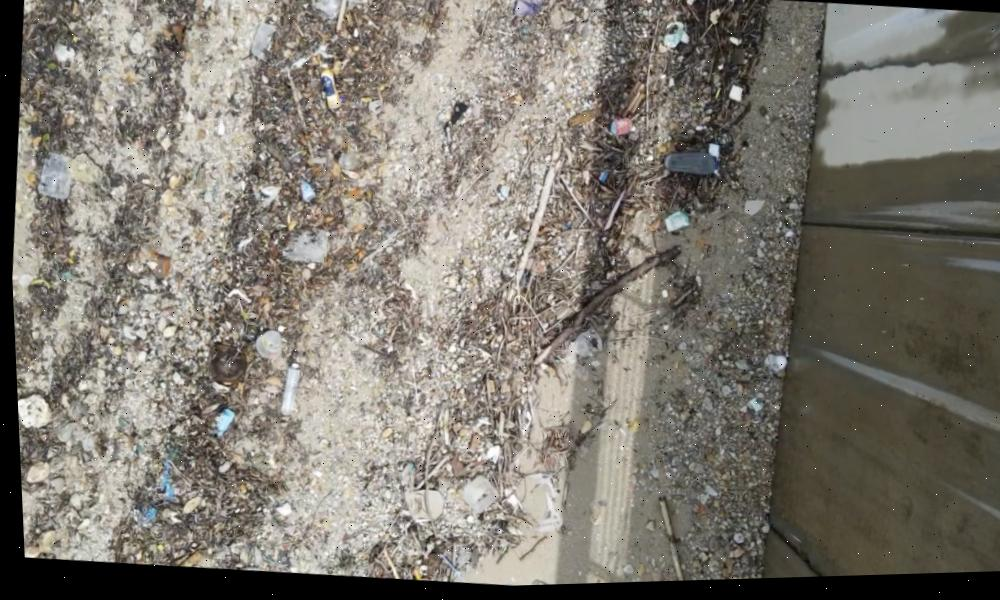carton: (653, 211, 698, 244)
plastic bag: (263, 0, 383, 29), (551, 321, 605, 374), (13, 385, 51, 438)
plastic bottle: (315, 64, 346, 119), (202, 403, 237, 451), (275, 358, 297, 419)
plastic container: (34, 138, 78, 206), (455, 474, 498, 523), (243, 326, 284, 372)
